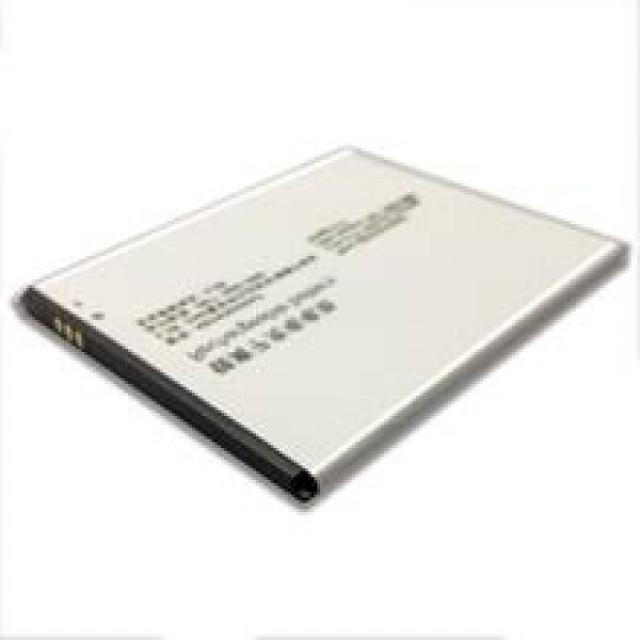battery: (25, 147, 628, 507)
